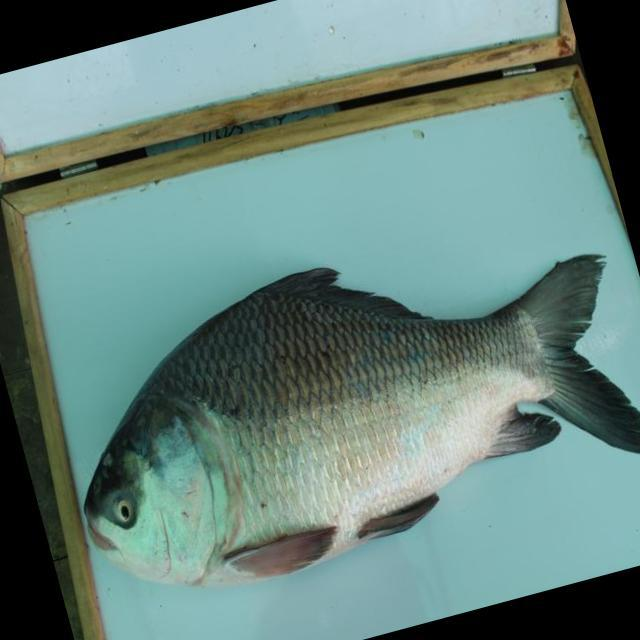Catla: (82, 251, 640, 584)
